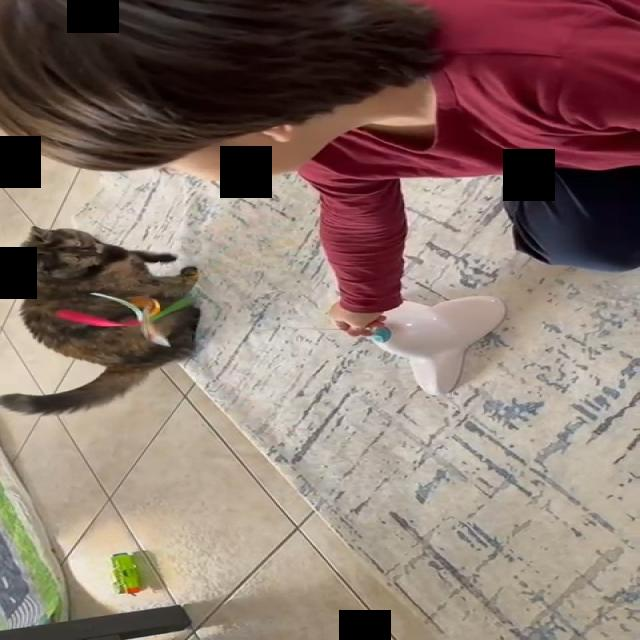authorized: (0, 225, 201, 416)
